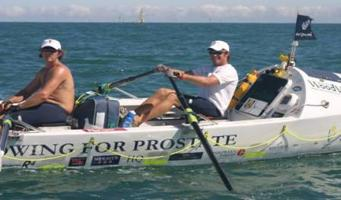person: (130, 40, 240, 129)
